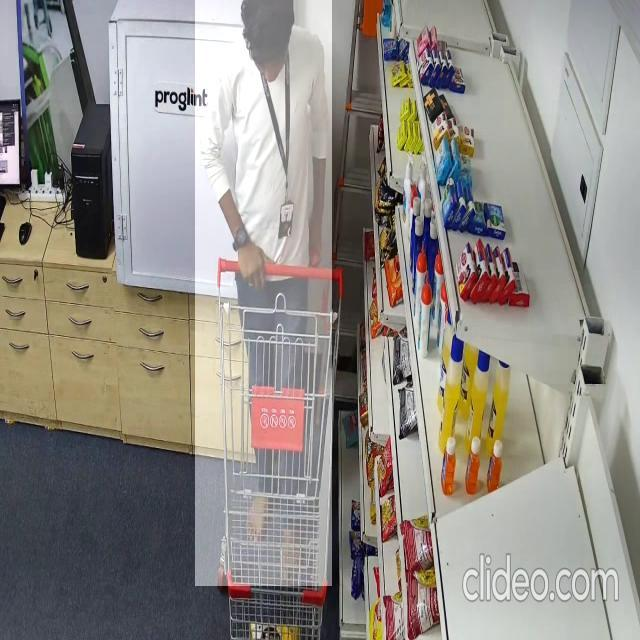Shoplifting: (195, 0, 332, 586)
